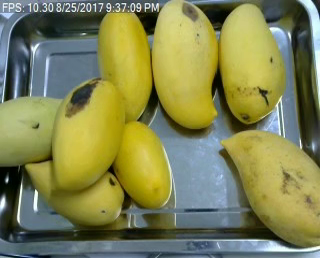Mango: (217, 126, 320, 250), (150, 6, 227, 134), (50, 75, 131, 191), (215, 1, 287, 121), (94, 3, 154, 121), (103, 120, 180, 211), (28, 158, 121, 230), (0, 96, 73, 165)
